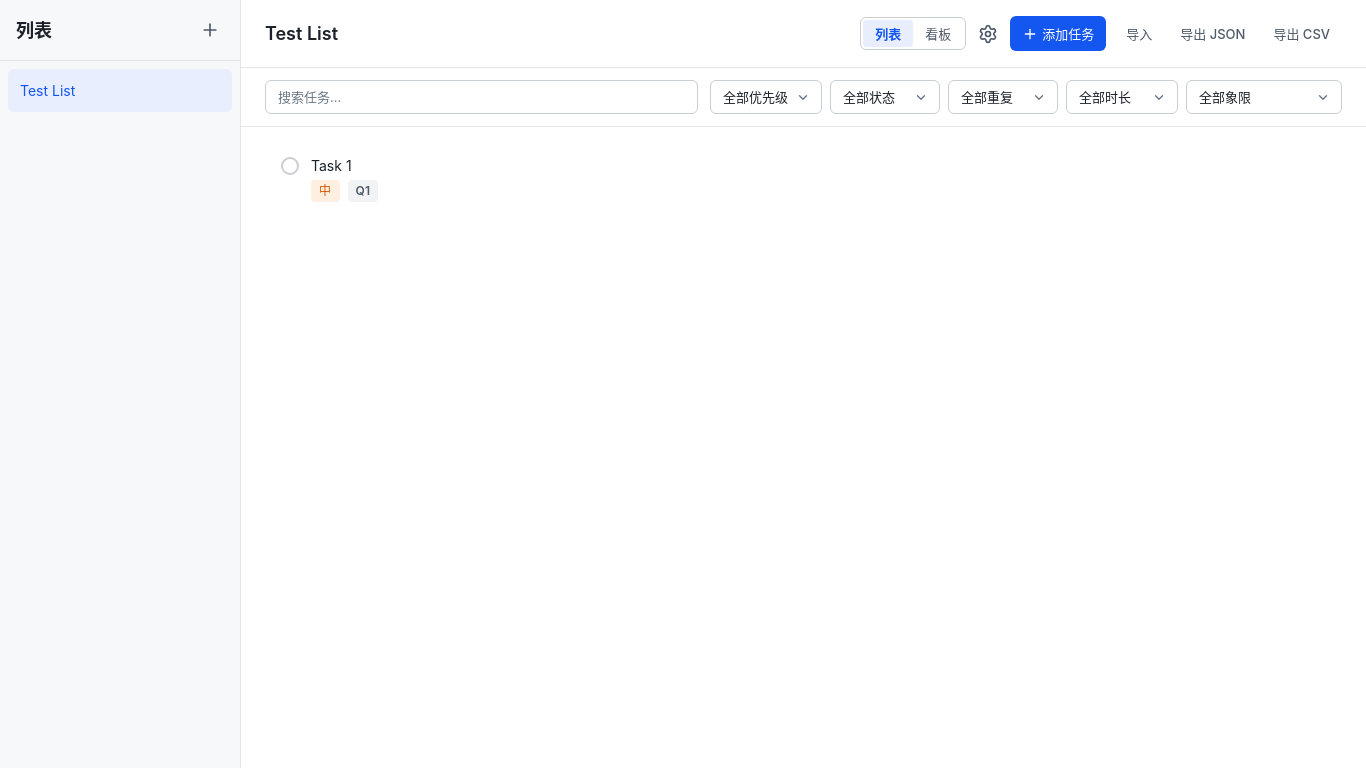
App redesigned UI classes › opens the settings page from the gear and returns focus to it on exit
This screenshot has width=1366, height=768.
Click the button with test id "settings-button" at (988, 34), box 974,20 -> 1002,48
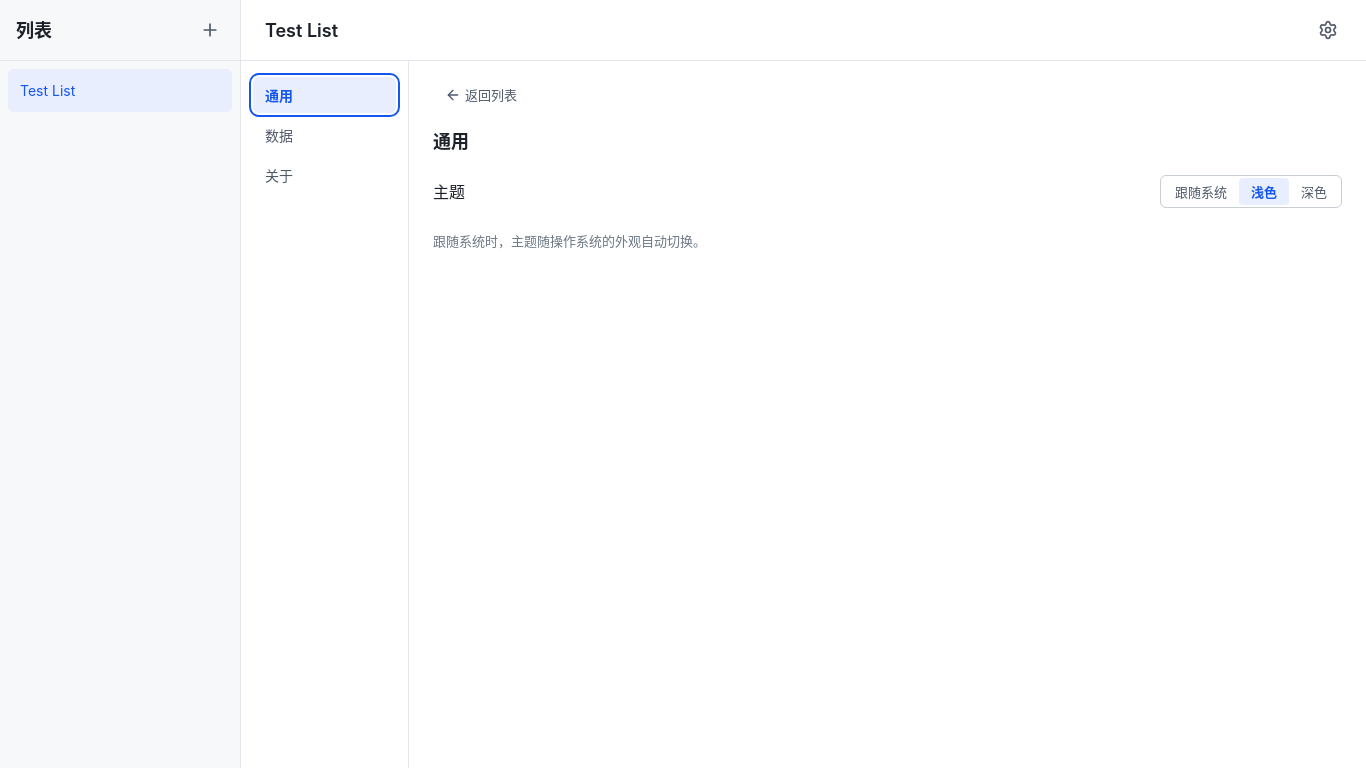
Result: the element with test id "settings-page" is shown
Result: the element with test id "settings-theme-segmented" is shown at 1160,175 -> 1342,208
Click the button with test id "settings-back-button" at (481, 94), box 433,77 -> 529,112
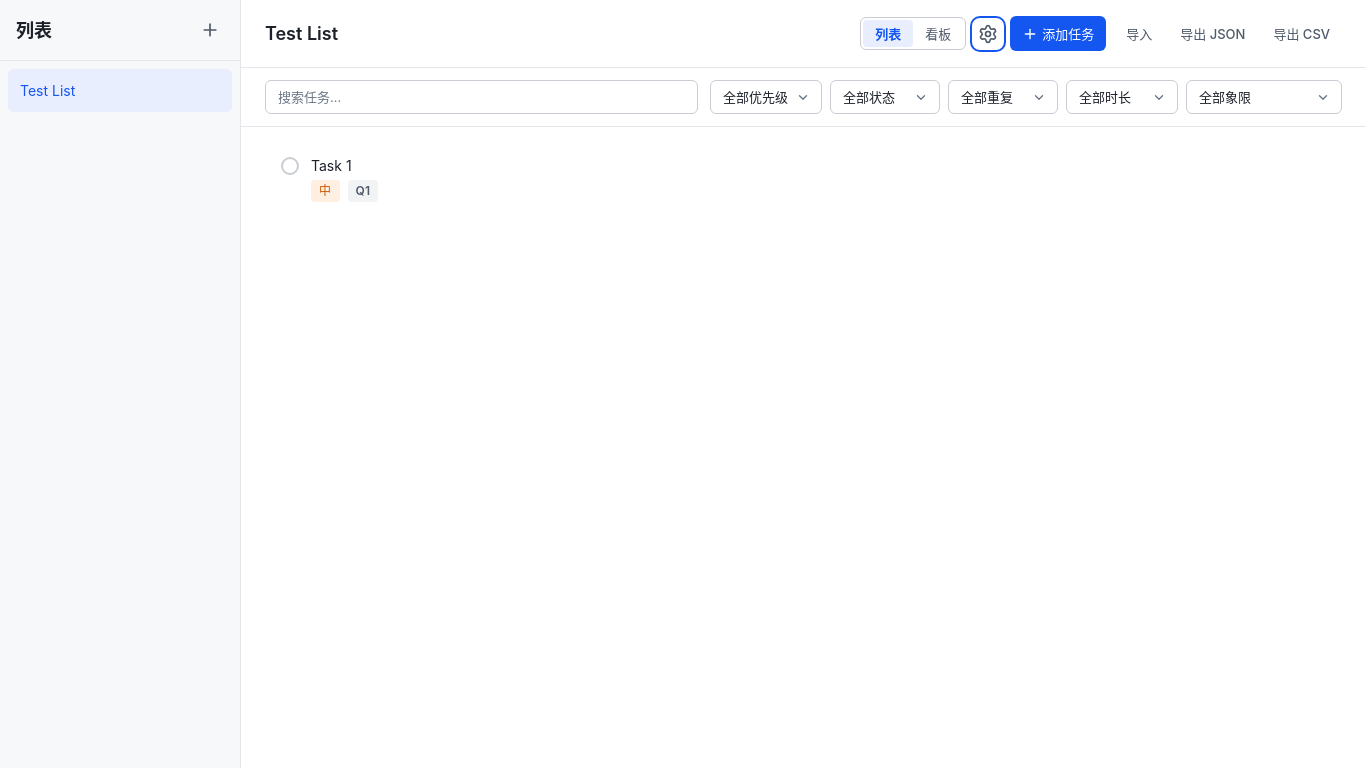
Result: the element with test id "settings-page" is gone
